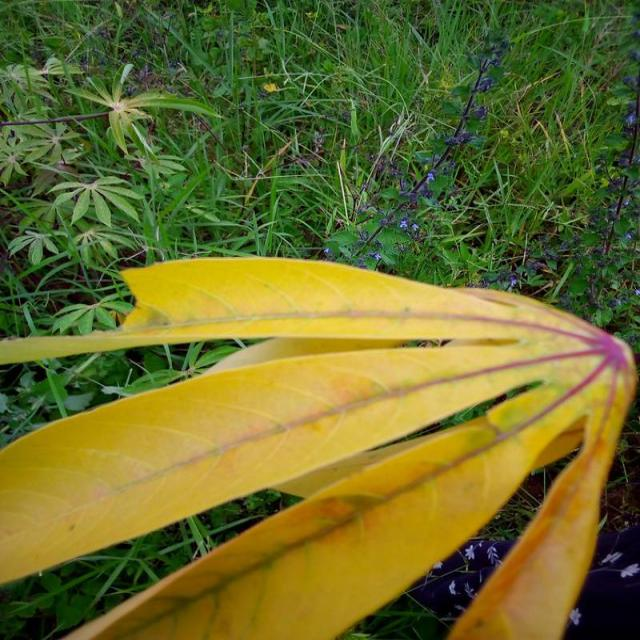cassava leaf: (1, 255, 637, 638)
